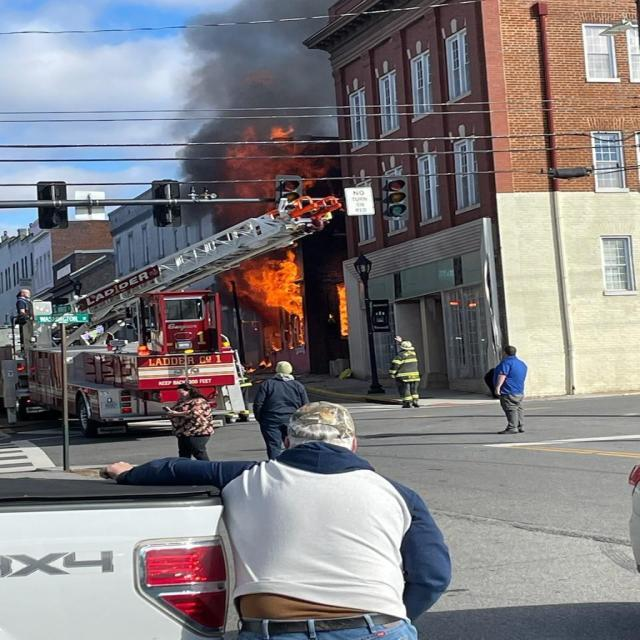Fire: (227, 249, 307, 348), (225, 128, 322, 202), (336, 286, 348, 336)
Smoke: (174, 0, 336, 182)
